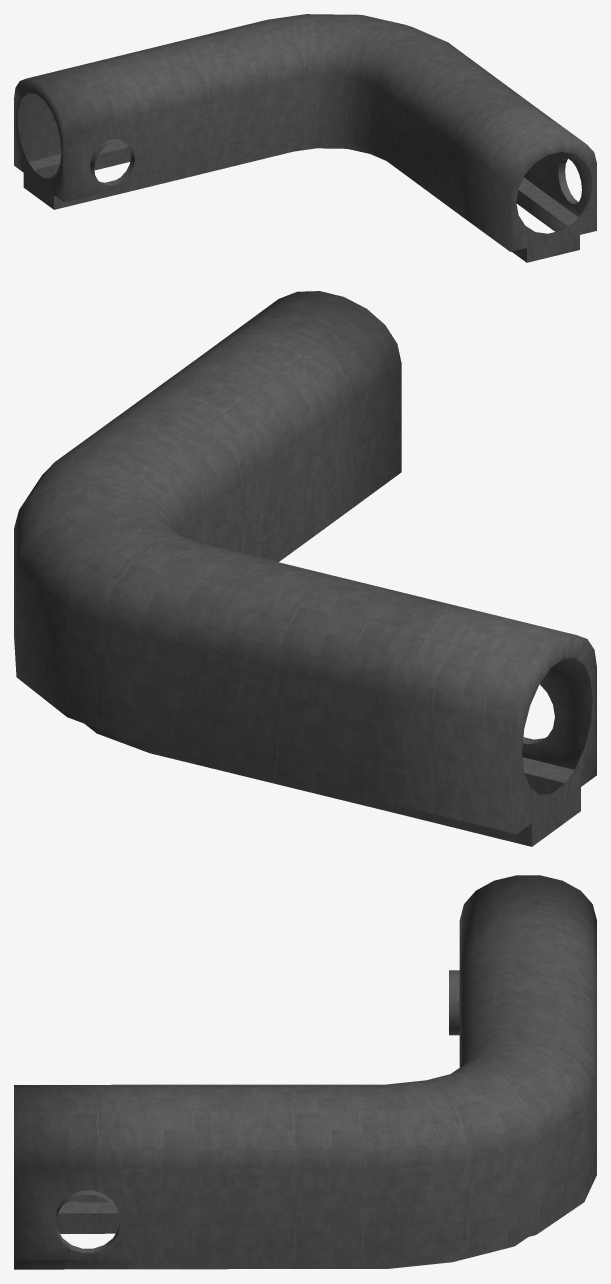
File: cybercity_building_sewer_wall_001.FBX
3 renders of one model, top to bottom at view 1: azimuth 30°, elevation 25°; view 2: azimuth 150°, elevation 25°; view 3: azimuth 270°, elevation 25°, orthographic. The views are drawn at different scales.
Visible parts, largest first — view 1: cybercity_building_sewer_wall_001; view 2: cybercity_building_sewer_wall_001; view 3: cybercity_building_sewer_wall_001.
Part boxes in pixels (<box>): cybercity_building_sewer_wall_001: <box>14,14,596,262</box>; cybercity_building_sewer_wall_001: <box>14,291,596,846</box>; cybercity_building_sewer_wall_001: <box>14,875,596,1269</box>.
Size of the model in its own units: 4410 by 1289 by 4303.
